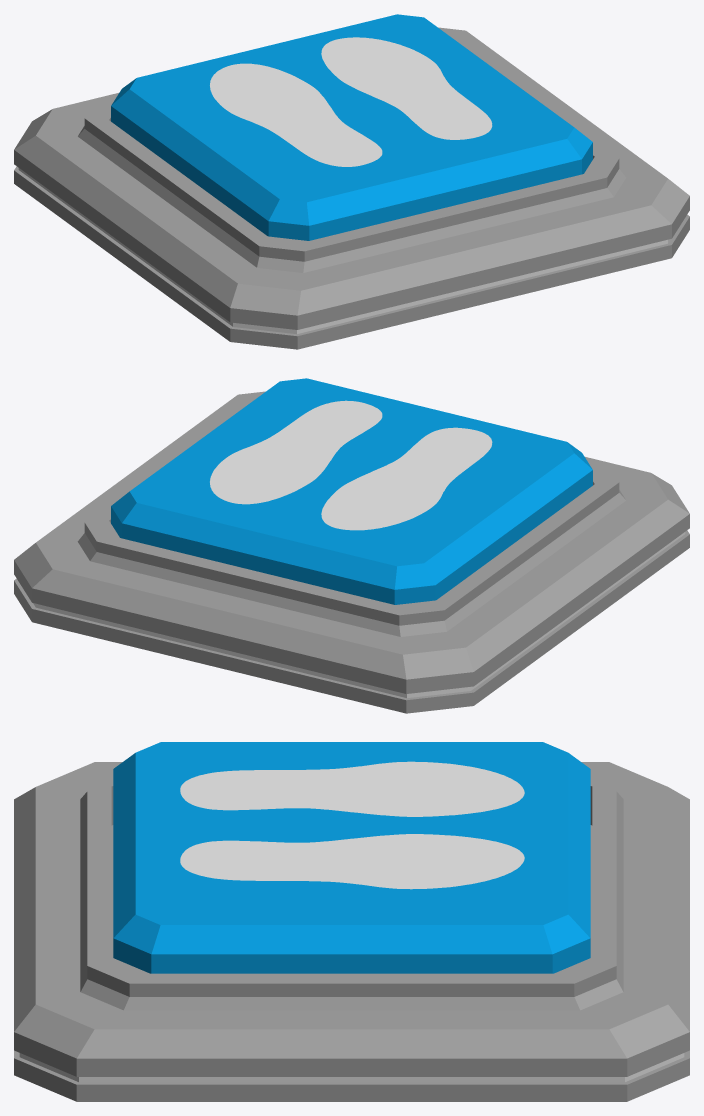
File: PressurePlate.fbx
The picture shows the model from 3 angles, top to bottom: view 1: azimuth 30°, elevation 25°; view 2: azimuth 150°, elevation 25°; view 3: azimuth 270°, elevation 25°; orthographic projection. The views are drawn at different scales.
Visible parts, largest first — view 1: PressurePlate, PressurePlatePad, FootprintDecal; view 2: PressurePlate, PressurePlatePad, FootprintDecal; view 3: PressurePlate, PressurePlatePad, FootprintDecal.
Boxes of the visible parts, x1,y1,x2,y2 form: PressurePlate: (14,27,689,349); PressurePlatePad: (111,14,592,240); FootprintDecal: (210,37,492,166); PressurePlate: (14,391,689,713); PressurePlatePad: (111,378,592,604); FootprintDecal: (210,400,492,530); PressurePlate: (14,762,689,1101); PressurePlatePad: (113,742,590,973); FootprintDecal: (180,761,524,889).
Bounding box in the file's own units: 91.96 × 20.04 × 91.96.
